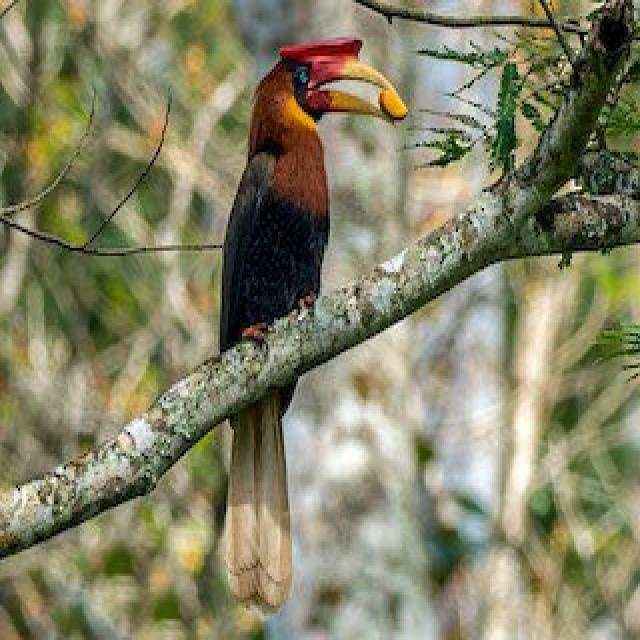Hornbill: (218, 47, 402, 591)
